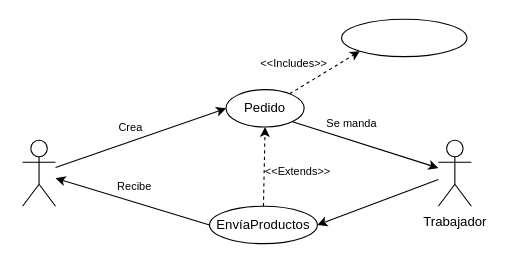
Image size: 506x263. Some labels were removed from this diagram. Here are the shapes that lost their labels. From the top down, the centre of each, then its label:
pixel 403 37: AgregarProducto
pixel 38 172: Cliente
